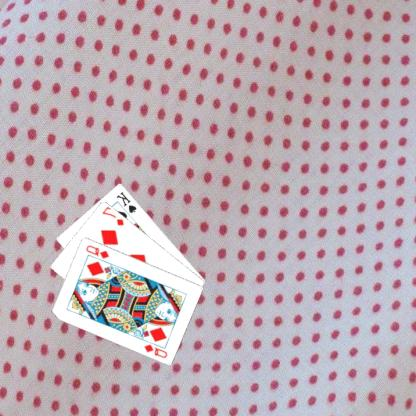7D: (101, 204, 127, 226)
KS: (116, 189, 140, 214)
QD: (85, 242, 112, 260), (143, 341, 170, 359)
